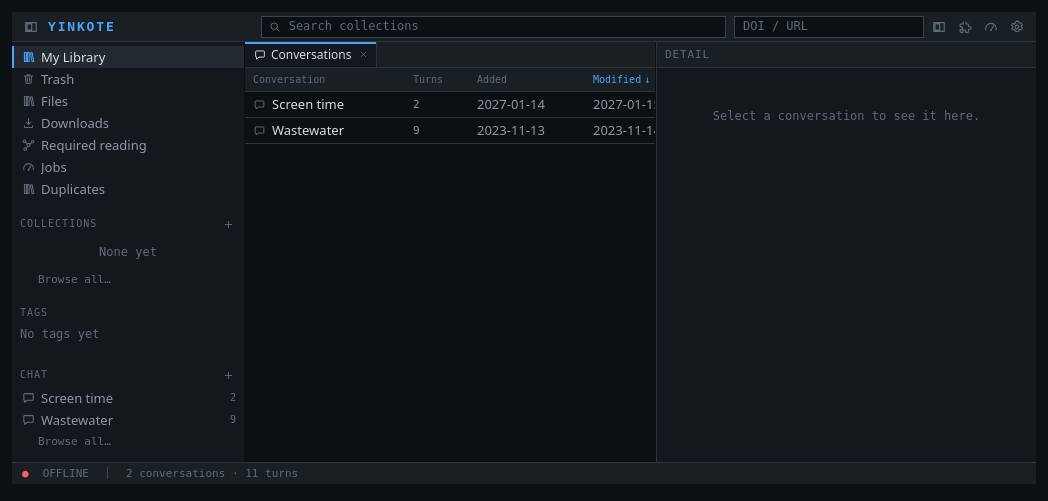
the conversation browser › describes the clicked conversation without opening it
Click the element with class "chats-grid" that starts with "Wastewater": (487, 131) [245,118,729,144]
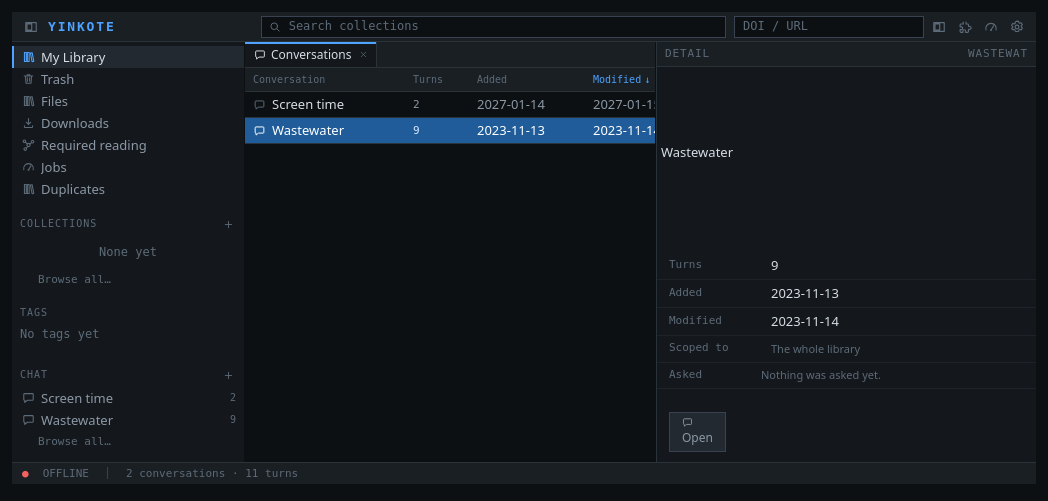
Now the field with class "detail-title-edit" holds "Wastewater", box [657,66,1036,239]
